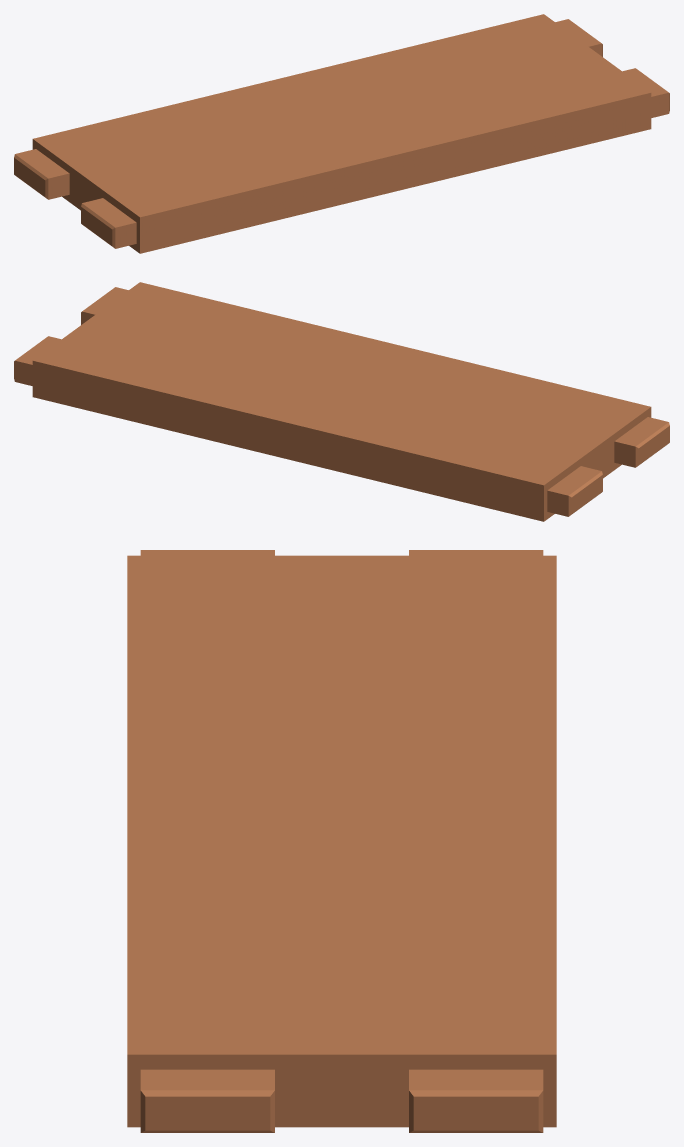
File: shelf_level_2.diagnostic.glb
3 renders of one model, top to bottom at view 1: azimuth 30°, elevation 25°; view 2: azimuth 150°, elevation 25°; view 3: azimuth 270°, elevation 25°, orthographic. The views are drawn at different scales.
Visible parts, largest first — view 1: shelf_level_2_mesh; view 2: shelf_level_2_mesh; view 3: shelf_level_2_mesh.
Boxes of the visible parts, box(x1,y1,x2,y2) form: shelf_level_2_mesh: box(14, 14, 669, 253); shelf_level_2_mesh: box(14, 282, 669, 521); shelf_level_2_mesh: box(127, 550, 556, 1132).
Bounding box in the file's own units: 96 × 6 × 32.
